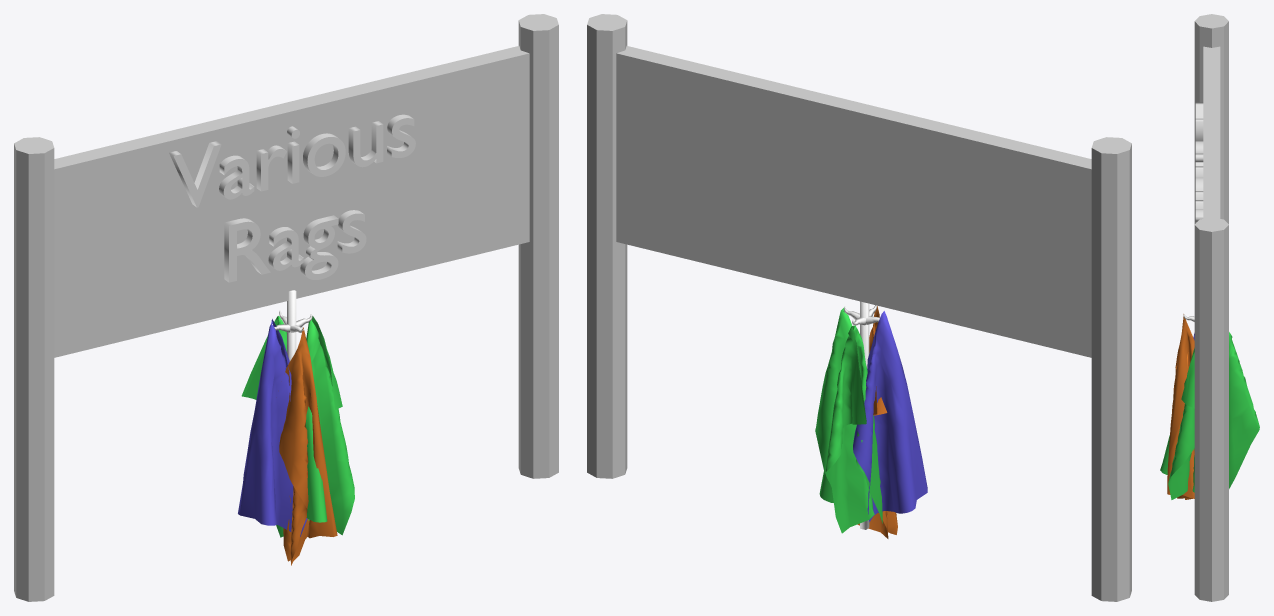
File: VariousRagStore.glb
3 renders of one model, left to right at view 1: azimuth 30°, elevation 25°; view 2: azimuth 150°, elevation 25°; view 3: azimuth 270°, elevation 25°, orthographic. The views are drawn at different scales.
Visible parts, largest first — view 1: HatSign.001, RagRack; view 2: HatSign.001, RagRack; view 3: HatSign.001, RagRack.
Boxes of the visible parts, <box> form: HatSign.001: <box>14,14,558,601</box>; RagRack: <box>238,290,354,565</box>; HatSign.001: <box>587,14,1131,601</box>; RagRack: <box>815,301,927,538</box>; HatSign.001: <box>1194,14,1228,601</box>; RagRack: <box>1160,314,1259,499</box>.
Bounding box in the file's own units: 6 × 4.91 × 1.16.
